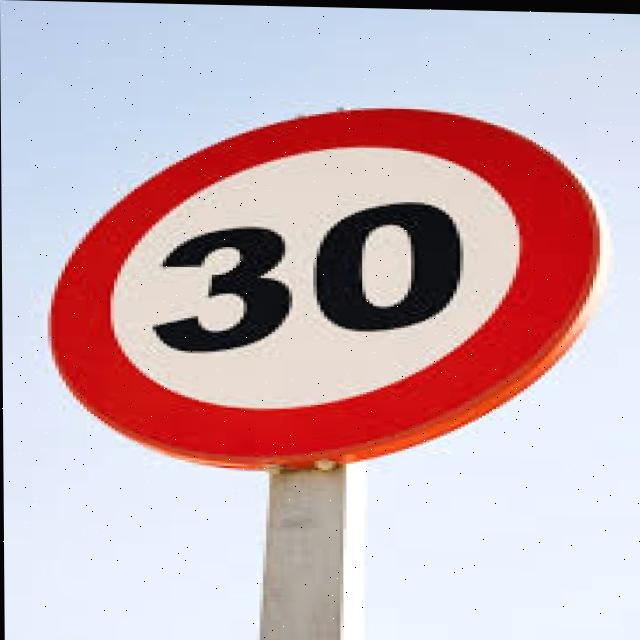Speed limit 30: (40, 97, 608, 477)
